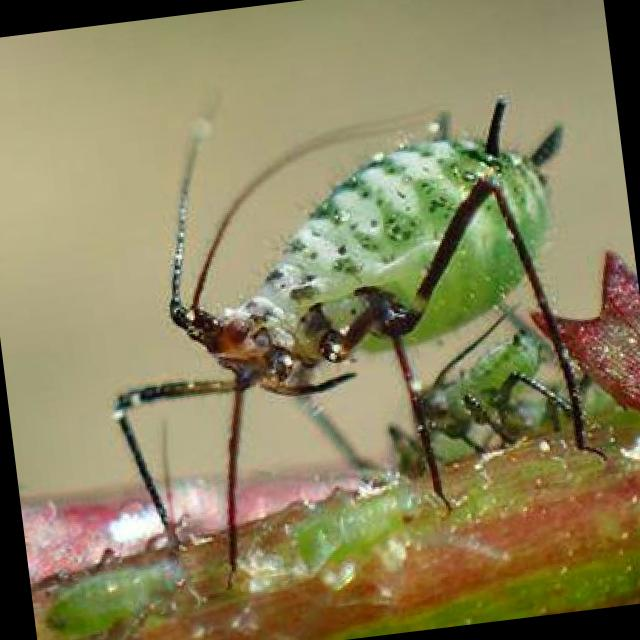aphid: (106, 77, 592, 491)
